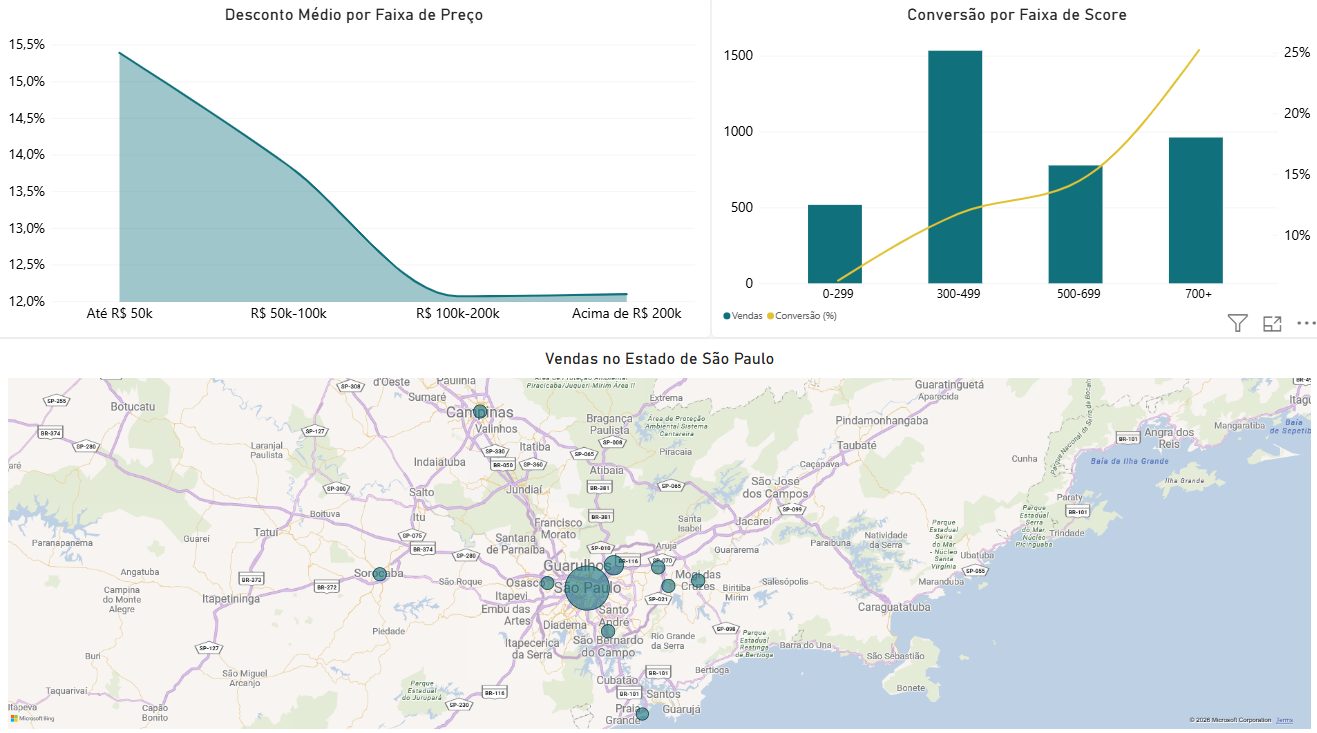

Layout of this report page (visuals, bound fields, positions):
{"tool":"powerbi","page":{"name":"Página 2","canvas":[1920,1080],"ordinal":1},"visuals":[{"type":"lineClusteredColumnComboChart","title":"Conversão por Faixa de Score","fields":{"Category":["faixa_score_X_conversão_tickt_medio.faixa_score"],"Y":["Sum(faixa_score_X_conversão_tickt_medio.vendas)"],"Y2":["Sum(faixa_score_X_conversão_tickt_medio.conversão (%))"]},"box":[1035.1,0,884.9,497.7],"z":0},{"type":"map","title":"Vendas no Estado de São Paulo","fields":{"Category":["top10_cidades_sp.cidade"],"Size":["Sum(top10_cidades_sp.vendas)"]},"box":[0,497.7,1920.1,582.7],"z":1000},{"type":"areaChart","title":"Desconto Médio por Faixa de Preço","fields":{"Category":["desconto_meidio.faixa_preco"],"Y":["Avg(desconto_meidio.desconto_médio (%))"]},"box":[0,0,1035.1,497.7],"z":2000}]}

Visuals, with their boxes in screenshot pixels (x1, y1, x2, y2), scaled from the page's 1920x1080 canvas onto the 1317x733 screenshot:
"Conversão por Faixa de Score" lineClusteredColumnComboChart: 710/0/1316/338
"Vendas no Estado de São Paulo" map: 0/338/1316/732
"Desconto Médio por Faixa de Preço" areaChart: 0/0/710/338
